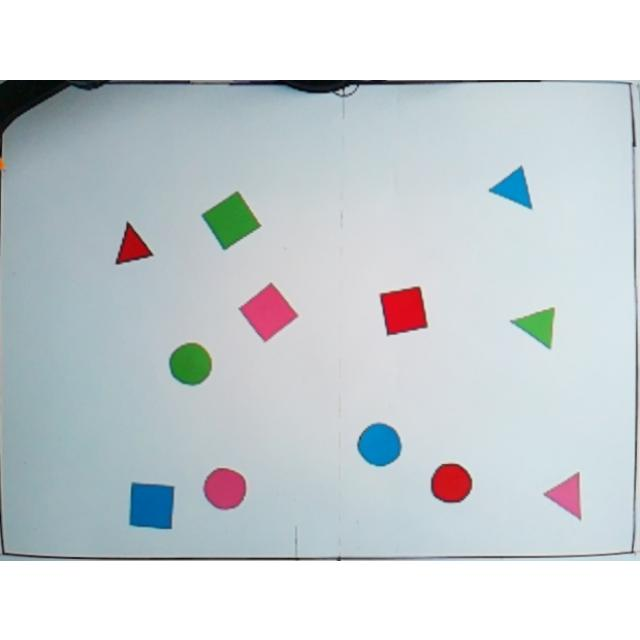blueCircle: (354, 419, 402, 466)
blueSquare: (129, 480, 175, 530)
blueTriangle: (488, 164, 536, 210)
greenCircle: (166, 340, 214, 386)
greenSquare: (200, 188, 262, 250)
greenTriangle: (508, 303, 556, 349)
pinkCircle: (202, 462, 248, 510)
pinkSquare: (236, 280, 298, 342)
pinkTriangle: (542, 470, 586, 522)
redCircle: (429, 460, 475, 504)
redSquare: (378, 283, 430, 335)
redTriangle: (111, 218, 155, 268)
